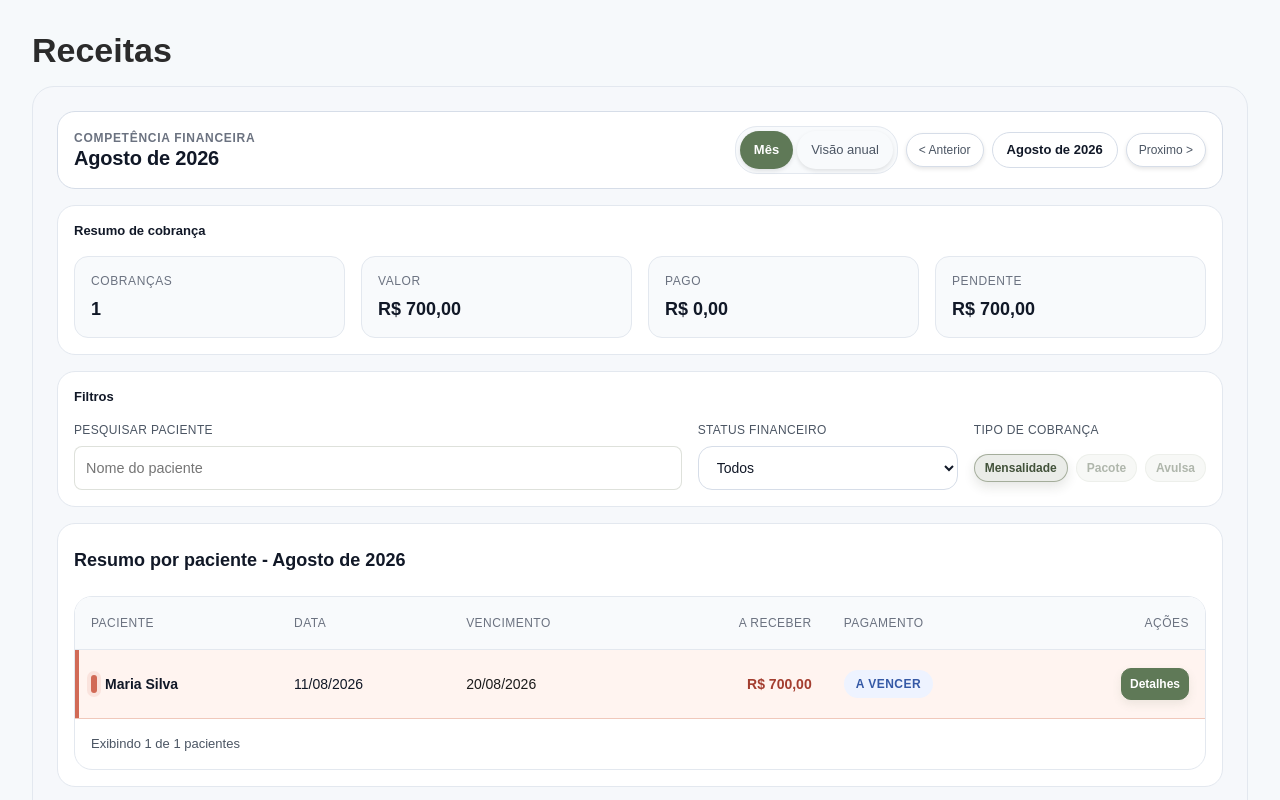
vencimento 2026-08-20 não inventa atraso ou data
Click the button "Detalhes" at (1155, 684), box [1121,668,1189,700]
(page scrolled)
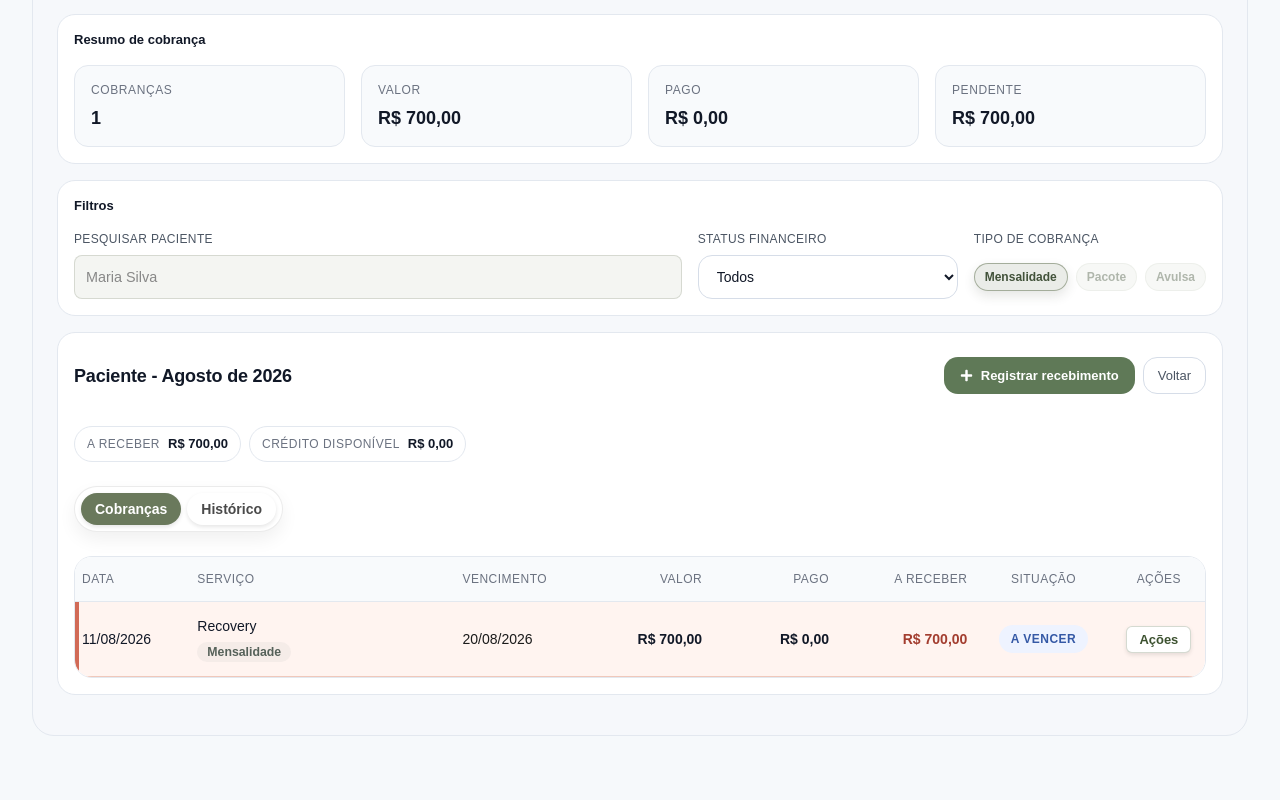
Expected: the text "Recovery" does not show "em atraso", [75,602,1205,676]
Expected: the button "Registrar recebimento" is enabled, [944,357,1135,394]
